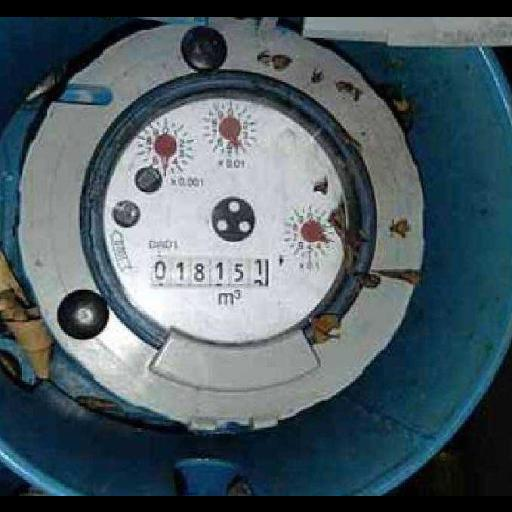0: (152, 258, 172, 285)
1: (171, 258, 191, 284), (210, 259, 228, 285), (253, 259, 268, 286)
5: (229, 258, 249, 284)
8: (193, 259, 210, 285)
border_water_meter_number: (150, 255, 272, 290)
